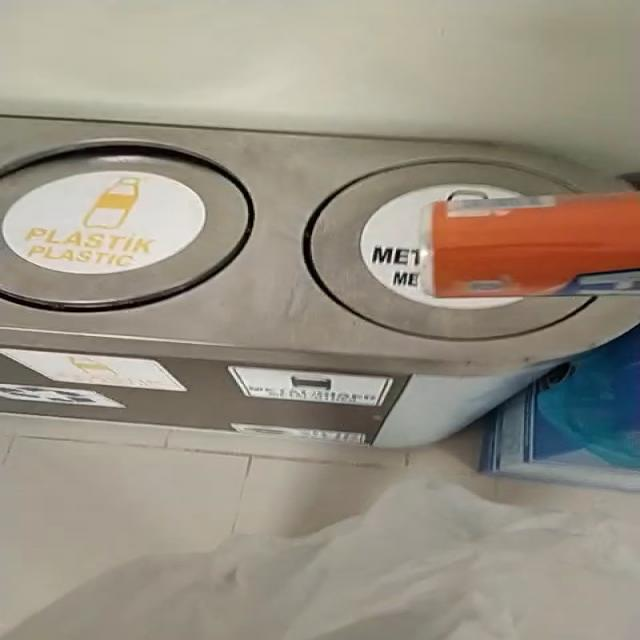bin: (0, 116, 639, 447)
metal: (423, 192, 640, 298)
